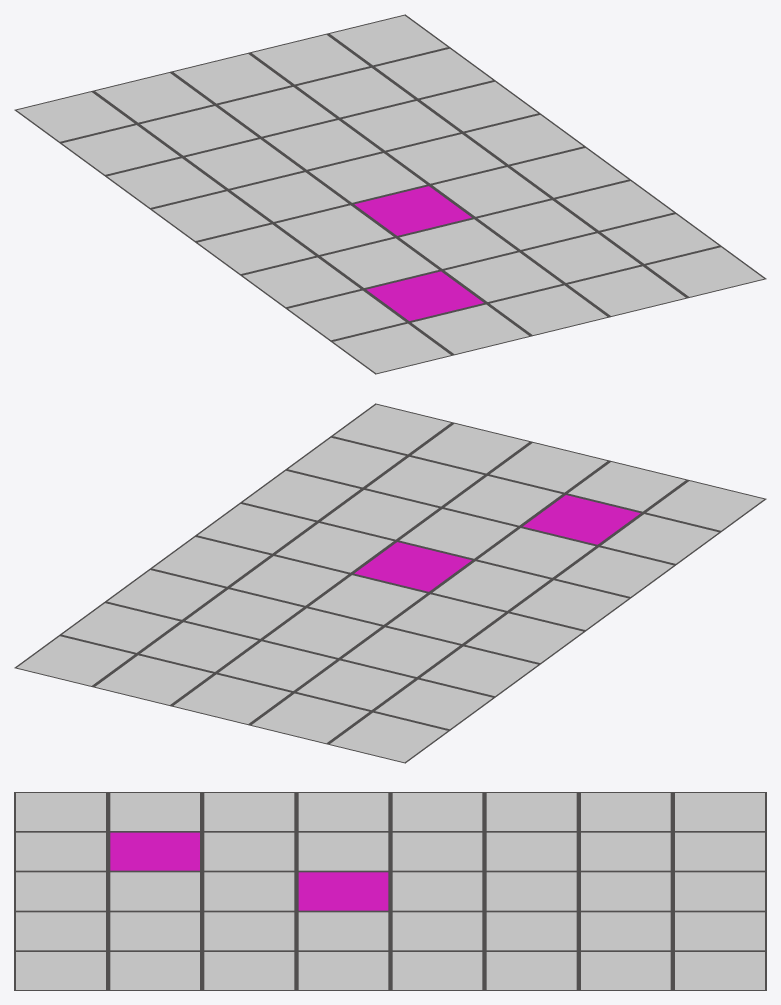
3 renders of one model, top to bottom at view 1: azimuth 30°, elevation 25°; view 2: azimuth 150°, elevation 25°; view 3: azimuth 270°, elevation 25°, orthographic. The views are drawn at different scales.
Parts seen in each view (by area): view 1: Plane.001; view 2: Plane.001; view 3: Plane.001.
Part boxes in pixels (left/top/right/bottom): Plane.001: left=14, top=14, right=766, bottom=374; Plane.001: left=14, top=403, right=766, bottom=763; Plane.001: left=14, top=792, right=766, bottom=990.
Bounding box in the file's own units: 767 × 3.35e-05 × 1227.
